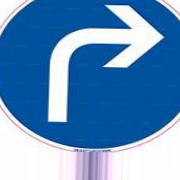right: (2, 1, 177, 152)
